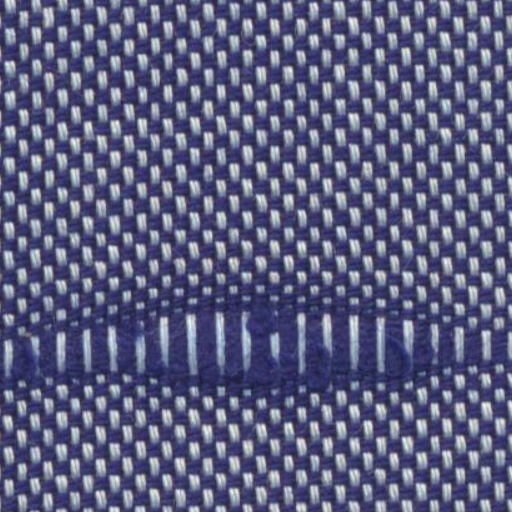DaiSha: (14, 291, 504, 396)
